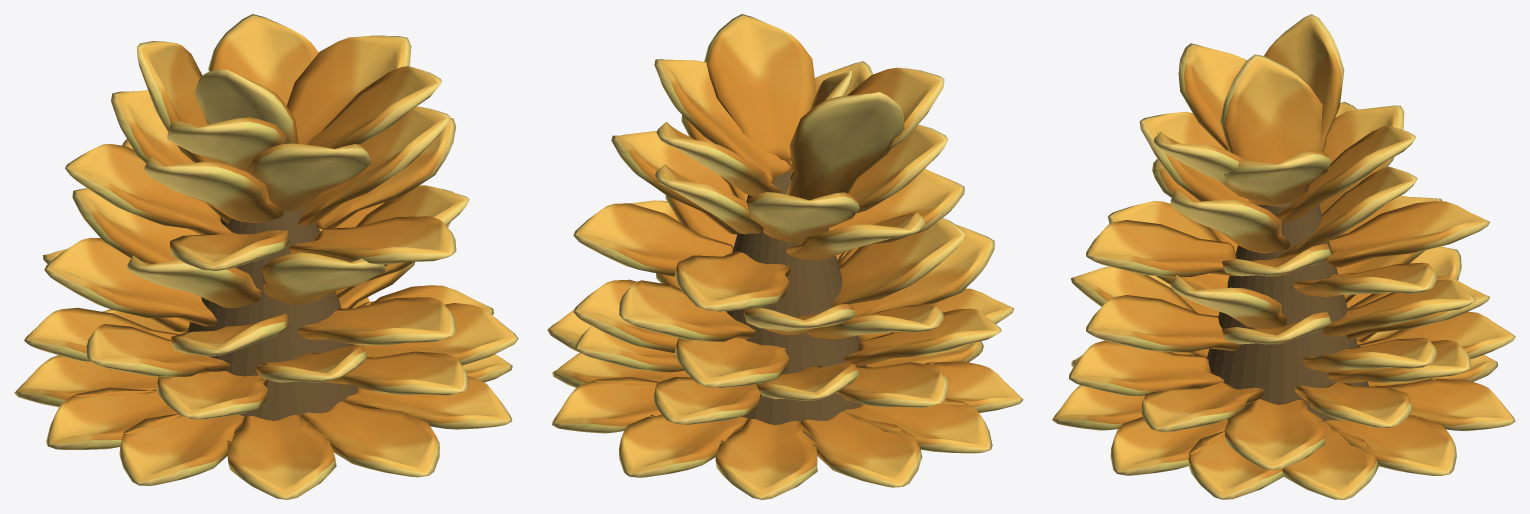
File: pomme_de_pinglb.glb
3 views of the same model, side by side, from view 1: azimuth 30°, elevation 25°; view 2: azimuth 150°, elevation 25°; view 3: azimuth 270°, elevation 25° (orthographic). The views are drawn at different scales.
Visible parts, largest first — view 1: pigne_pin., tronc_pigne; view 2: pigne_pin., tronc_pigne; view 3: pigne_pin., tronc_pigne.
Part boxes in pixels (left/top/right/bottom): pigne_pin.: left=14, top=14, right=518, bottom=499; tronc_pigne: left=187, top=205, right=358, bottom=432; pigne_pin.: left=547, top=14, right=1023, bottom=499; tronc_pigne: left=726, top=171, right=866, bottom=439; pigne_pin.: left=1052, top=14, right=1515, bottom=499; tronc_pigne: left=1207, top=201, right=1368, bottom=421.
Bounding box in the file's own units: 1.8 × 1.5 × 1.77.
2 materials, 1 textured.
